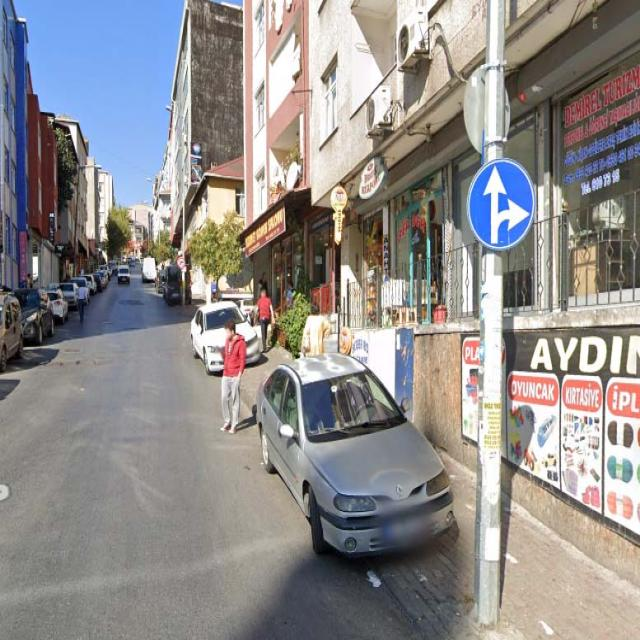ilerisag: (468, 158, 534, 248)
